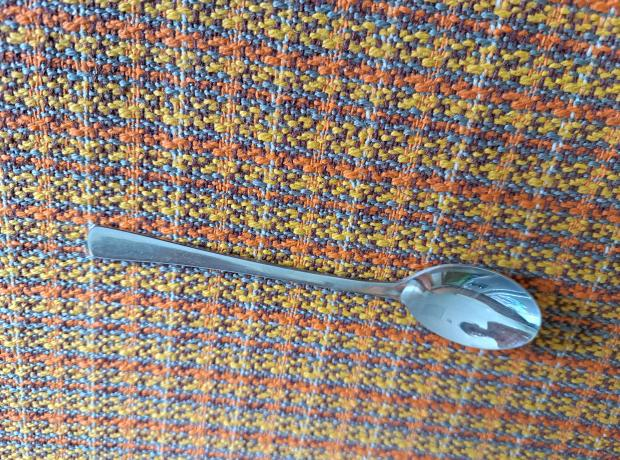metal: (86, 226, 543, 353)
